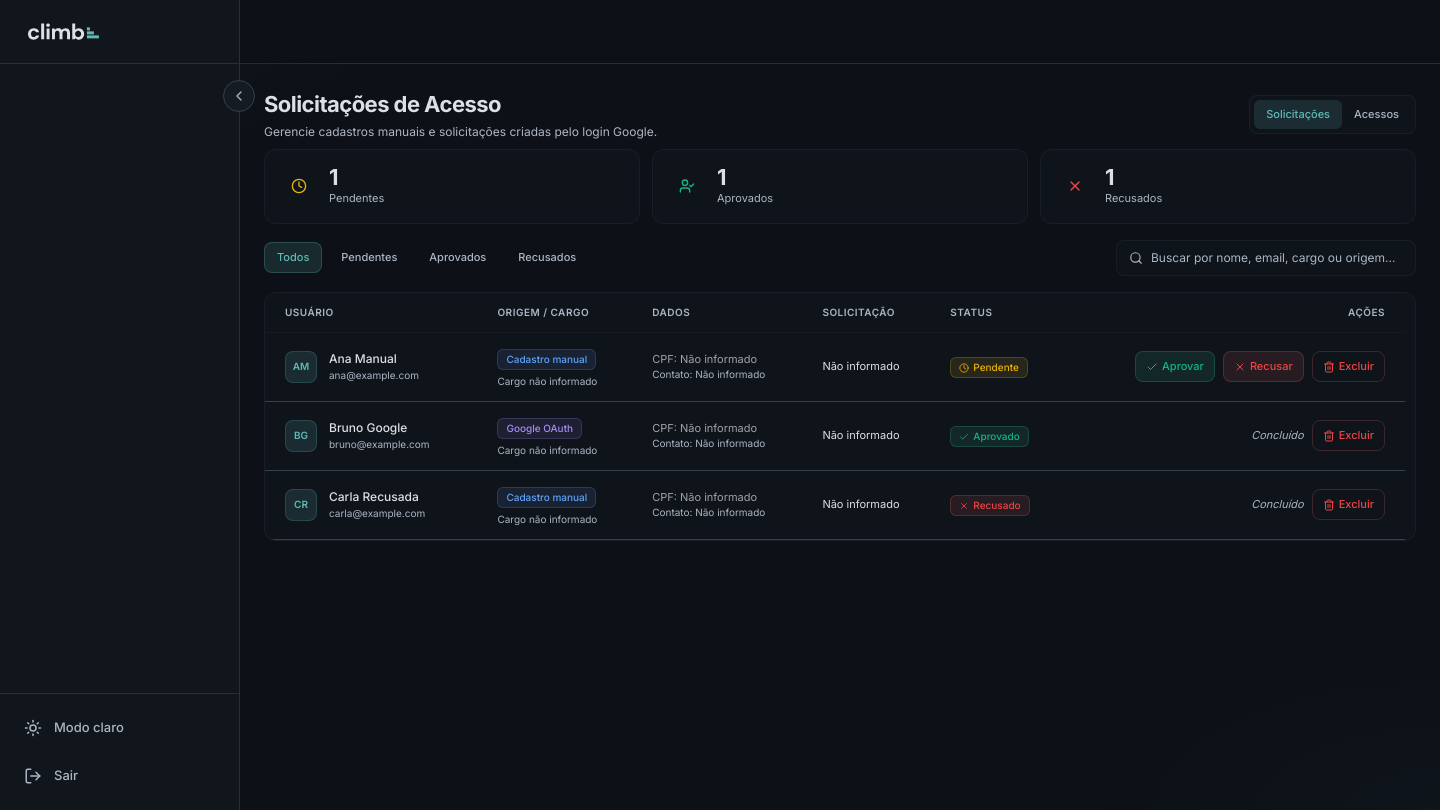
Test: exclusão de solicitações de acesso › permite cancelar a confirmação sem excluir nada
The image size is (1440, 810).
Step 1. Click the button with aria-label "Excluir solicitação de Ana Manual" → (1348, 367), box [1312,351,1385,382]
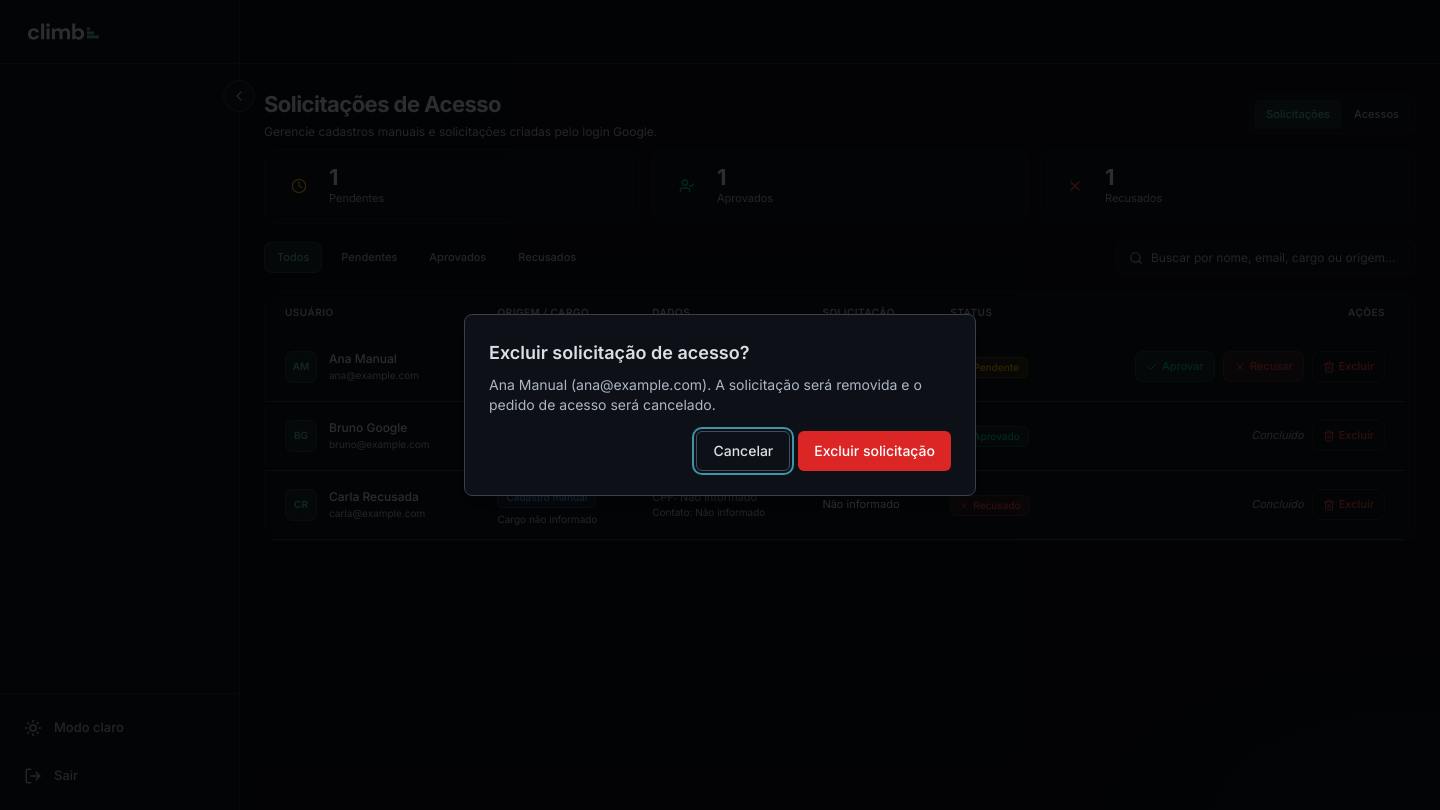
Step 2. Click the button "Cancelar" → (743, 451), box [696,431,790,471]
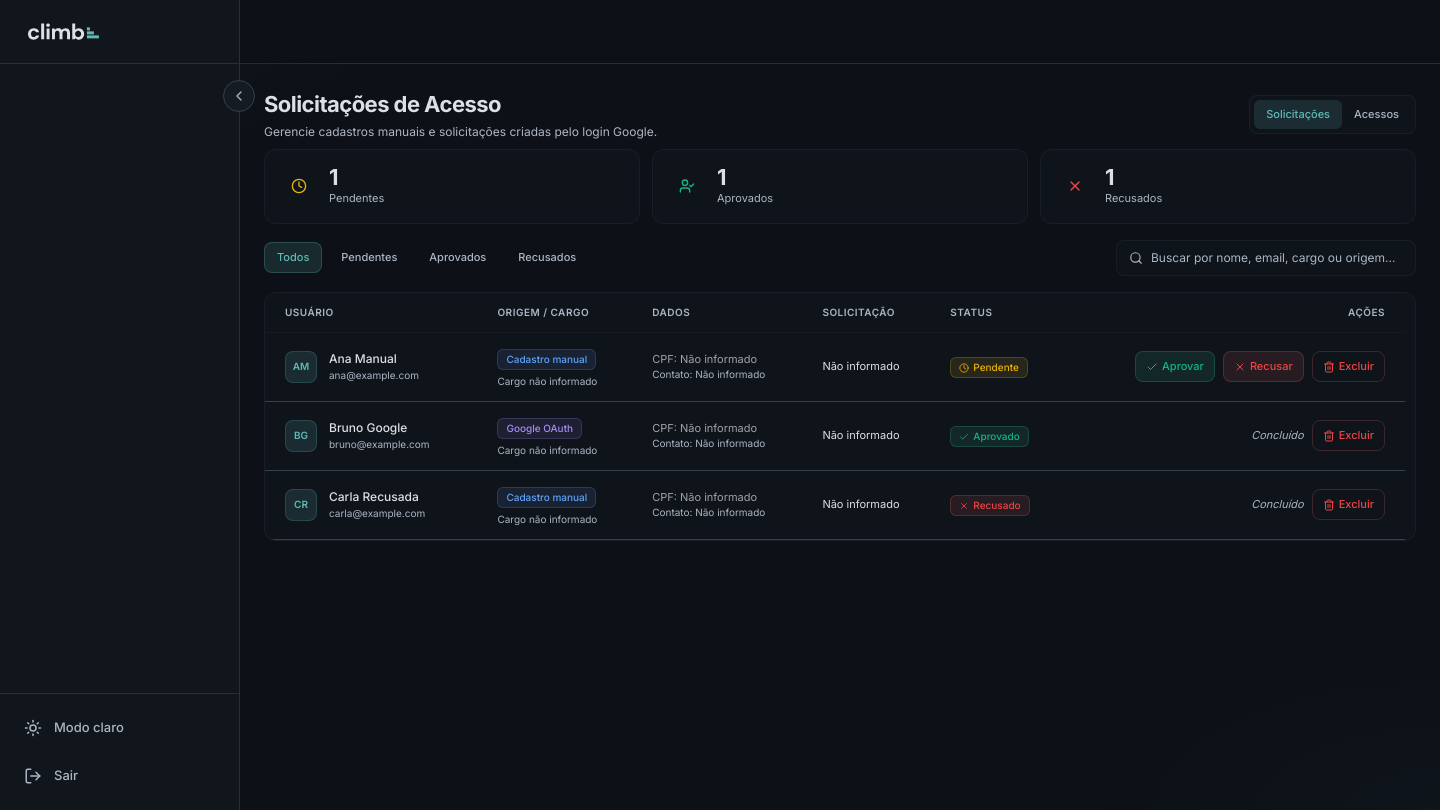
expect the dialog is gone: met
